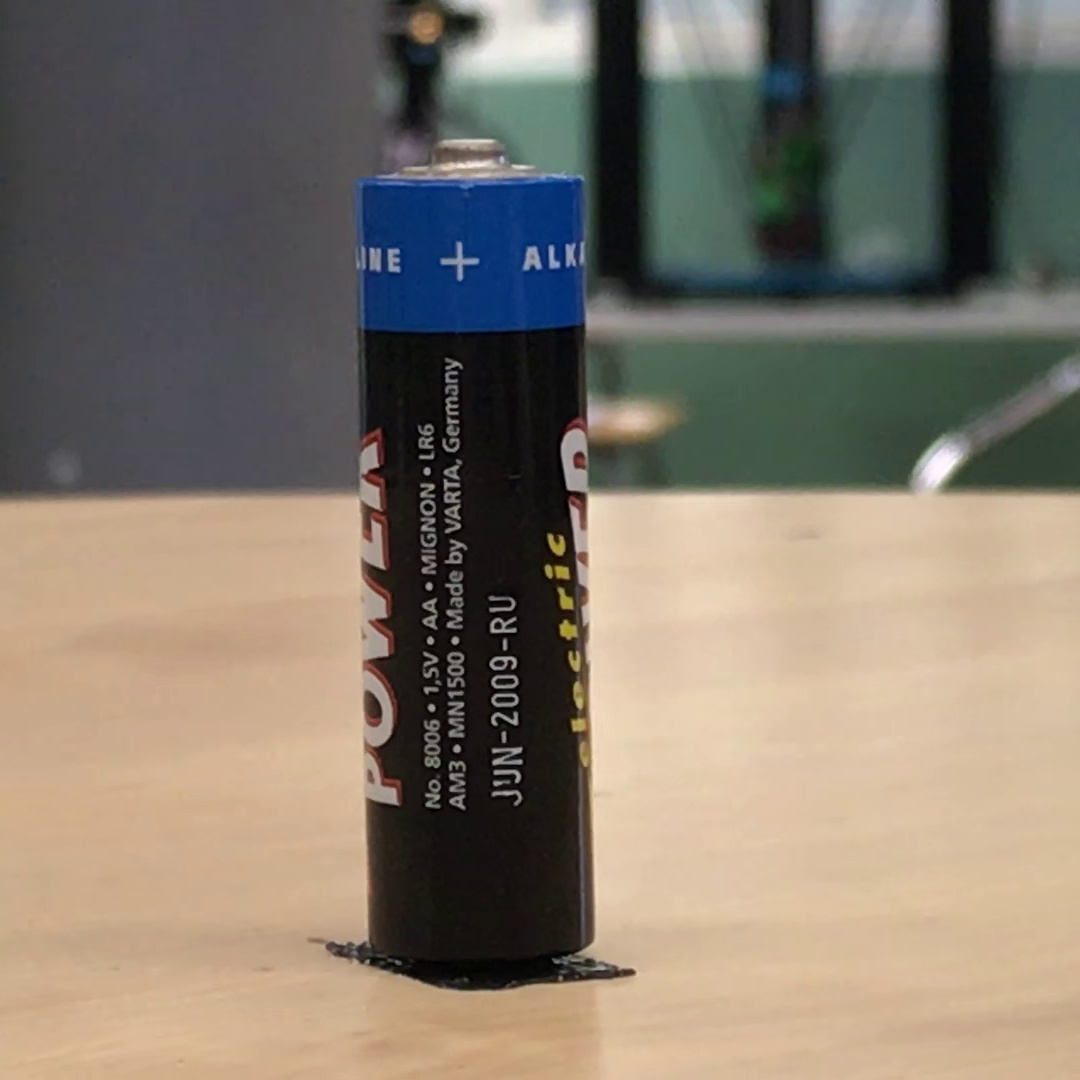keyword: (414, 642, 448, 704), (409, 415, 444, 469)
